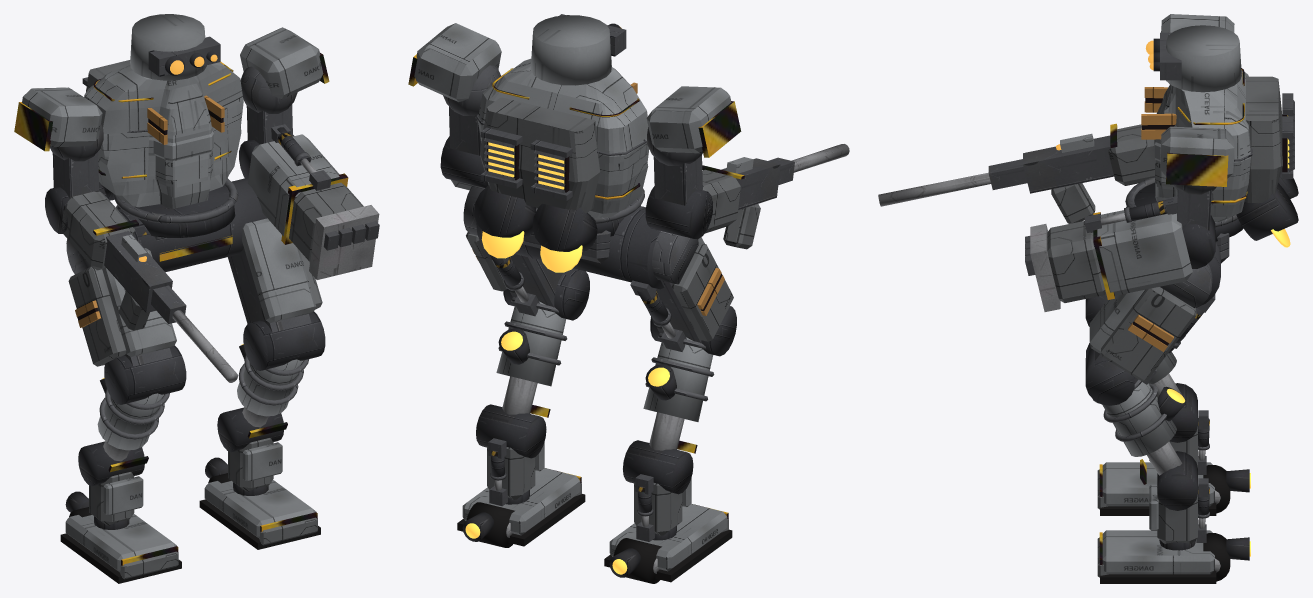
Rendered from mech_roustabout.glb.
3 views of the same model, side by side, from view 1: azimuth 30°, elevation 25°; view 2: azimuth 150°, elevation 25°; view 3: azimuth 270°, elevation 25° (orthographic). The views are drawn at different scales.
Visible parts, largest first — view 1: cockpit_roustabout_armor.001, thigh_L_roustabout_armor.001, forearm_L_roustabout_armor.001, shoulder_L_roustabout_armor.001, pelvis_roustabout_dark.001, hand_R_roustabout_frame.001, head_roustabout_armor.001, shoulder_R_roustabout_armor.001, shin_L_roustabout_dark.001, foot_L_roustabout_armor.001, foot_R_roustabout_armor.001, shin_R_roustabout_dark.001 (+40 smaller); view 2: cockpit_roustabout_armor.001, cockpit_roustabout_armor2.001, head_roustabout_armor.001, cockpit_roustabout_dark.001, shoulder_L_roustabout_armor.001, shoulder_R_roustabout_armor.001, pelvis_roustabout_dark.001, thigh_R_roustabout_frame.001, cockpit_roustabout_frame.001, foot_L_roustabout_armor.001, foot_R_roustabout_armor.001, thigh_R_roustabout_armor2.001 (+32 smaller); view 3: forearm_L_roustabout_armor.001, cockpit_roustabout_armor.001, thigh_L_roustabout_armor2.001, hand_R_roustabout_frame.001, head_roustabout_armor.001, cockpit_roustabout_armor2.001, foot_L_roustabout_armor.001, hand_L_roustabout_armor2.001, shin_L_roustabout_armor.001, shin_L_roustabout_dark.001, foot_R_roustabout_armor.001, cockpit_roustabout_dark.001 (+25 smaller).
Boxes of the visible parts, box(x1,y1,x2,y2) form: cockpit_roustabout_armor.001: box(84, 62, 243, 208); thigh_L_roustabout_armor.001: box(242, 218, 316, 323); forearm_L_roustabout_armor.001: box(247, 134, 339, 236); shoulder_L_roustabout_armor.001: box(240, 27, 323, 98); pelvis_roustabout_dark.001: box(117, 178, 266, 272); hand_R_roustabout_frame.001: box(104, 231, 186, 323); head_roustabout_armor.001: box(130, 14, 206, 80); shoulder_R_roustabout_armor.001: box(22, 87, 102, 147); shin_L_roustabout_dark.001: box(239, 311, 325, 370); foot_L_roustabout_armor.001: box(204, 480, 316, 538); foot_R_roustabout_armor.001: box(65, 514, 176, 572); shin_R_roustabout_dark.001: box(100, 345, 186, 404); cockpit_roustabout_armor.001: box(477, 58, 649, 218); cockpit_roustabout_armor2.001: box(479, 97, 600, 213); head_roustabout_armor.001: box(530, 15, 611, 85); cockpit_roustabout_dark.001: box(474, 185, 597, 252); shoulder_L_roustabout_armor.001: box(414, 23, 501, 102); shoulder_R_roustabout_armor.001: box(646, 86, 731, 153); pelvis_roustabout_dark.001: box(476, 206, 664, 289); thigh_R_roustabout_frame.001: box(630, 231, 701, 351); cockpit_roustabout_frame.001: box(476, 114, 646, 200); foot_L_roustabout_armor.001: box(462, 468, 580, 535); foot_R_roustabout_armor.001: box(609, 504, 727, 571); thigh_R_roustabout_armor2.001: box(672, 242, 733, 341); forearm_L_roustabout_armor.001: box(1093, 210, 1192, 295); cockpit_roustabout_armor.001: box(1154, 70, 1250, 222); thigh_L_roustabout_armor2.001: box(1101, 287, 1196, 381); hand_R_roustabout_frame.001: box(988, 135, 1114, 193); head_roustabout_armor.001: box(1166, 25, 1241, 92); cockpit_roustabout_armor2.001: box(1244, 76, 1282, 202); foot_L_roustabout_armor.001: box(1102, 530, 1214, 574); hand_L_roustabout_armor2.001: box(1047, 221, 1105, 302); shin_L_roustabout_armor.001: box(1102, 382, 1176, 456); shin_L_roustabout_dark.001: box(1085, 343, 1186, 421); foot_R_roustabout_armor.001: box(1102, 462, 1214, 506); cockpit_roustabout_dark.001: box(1236, 169, 1298, 240).
Size of the model in its own units: 14.42 by 24.08 by 18.38.
11 materials, 7 textured.
